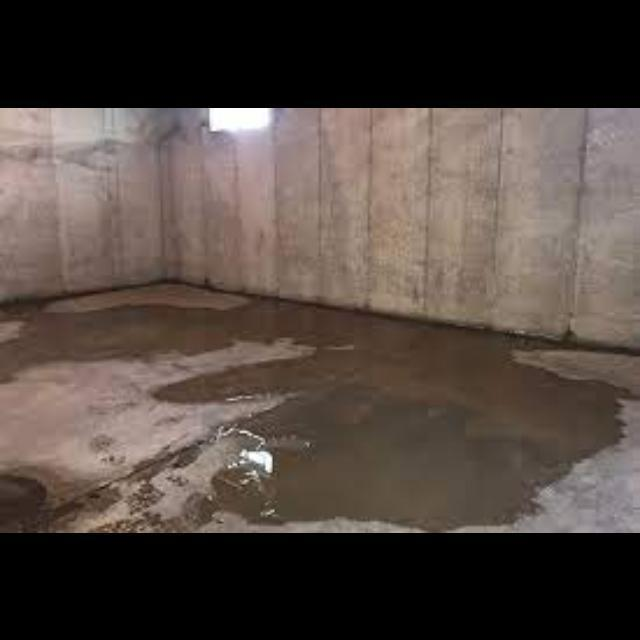water accumulation: (0, 296, 636, 532)
